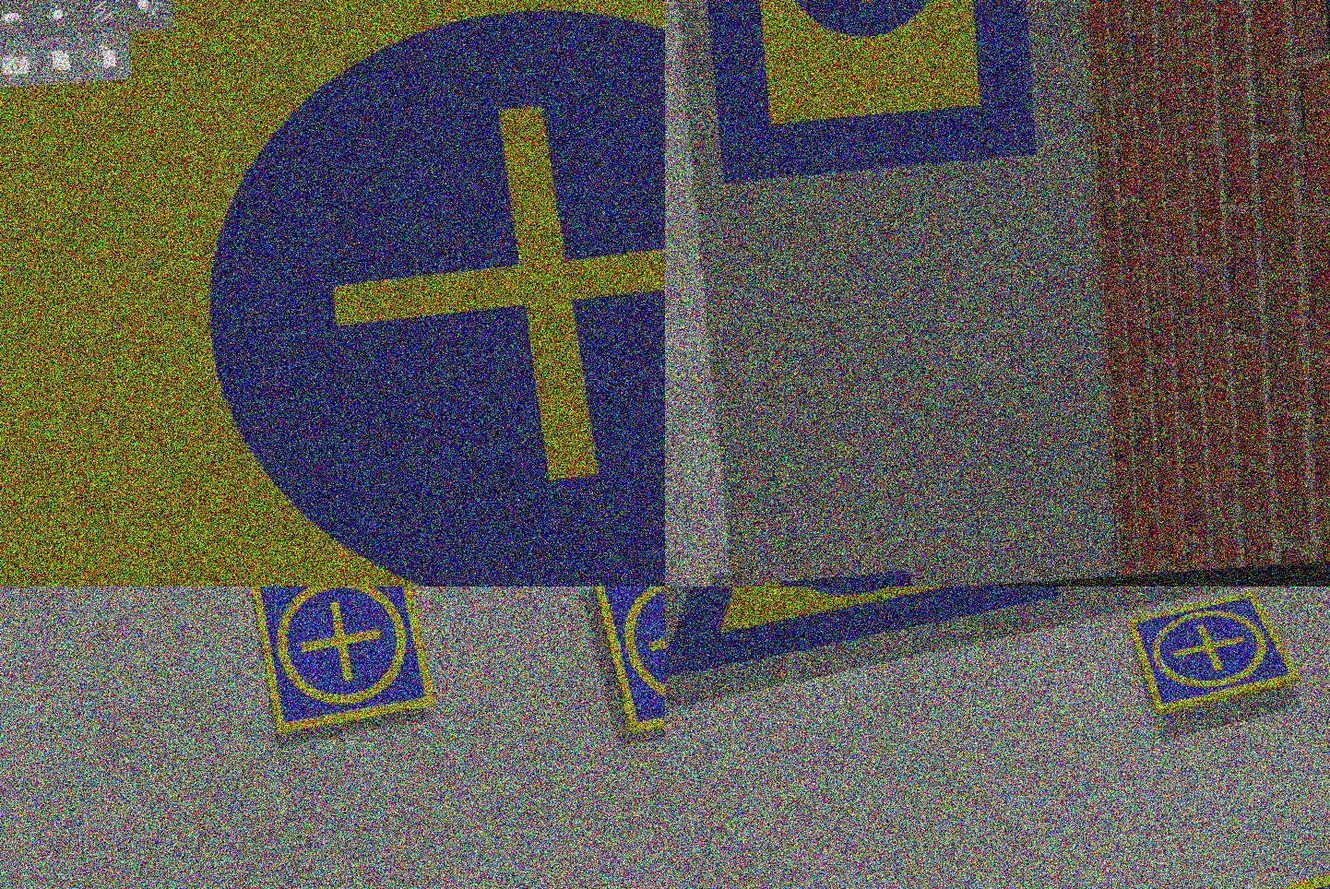large_base: (1, 1, 666, 587), (695, 1, 1040, 186), (666, 587, 1068, 680)
small_base: (249, 587, 440, 739), (1126, 590, 1304, 717), (590, 587, 666, 736)
